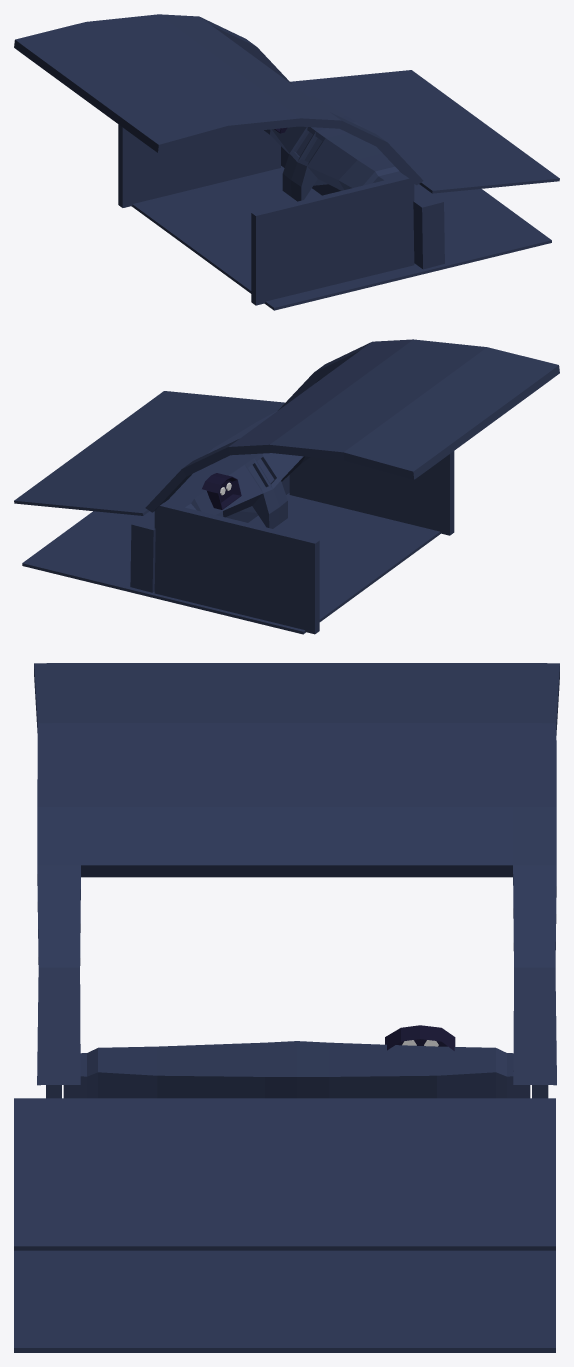
Rendered from CarDashboard.glb.
3 views of the same model, one above another, from view 1: azimuth 30°, elevation 25°; view 2: azimuth 150°, elevation 25°; view 3: azimuth 270°, elevation 25° (orthographic). The views are drawn at different scales.
Parts seen in each view (by area): view 1: Roof, Floor, DoorRight, Hood, DoorLeft, Dash, Hood.001; view 2: Roof, Floor, DoorLeft, Hood, DoorRight, Dash, Hood.001, InstrumentPanel; view 3: Roof, Hood, Floor, Dash, InstrumentPanel.
Part boxes in pixels (x1,y1,x2,y2): Roof: [14, 14, 423, 185]; Floor: [131, 166, 551, 310]; DoorRight: [251, 175, 414, 305]; Hood: [290, 70, 559, 193]; DoorLeft: [118, 124, 280, 207]; Dash: [264, 85, 404, 201]; Hood.001: [281, 146, 444, 269]; Roof: [145, 339, 559, 512]; Floor: [22, 493, 440, 634]; DoorLeft: [154, 502, 319, 634]; Hood: [14, 391, 284, 515]; DoorRight: [289, 451, 454, 535]; Dash: [165, 411, 309, 528]; Hood.001: [130, 475, 289, 592]; InstrumentPanel: [202, 473, 241, 509]; Roof: [34, 663, 559, 1085]; Hood: [14, 1098, 555, 1250]; Floor: [14, 1250, 555, 1352]; Dash: [63, 1041, 530, 1098]; InstrumentPanel: [385, 1025, 455, 1050].
Bounding box in the file's own units: 16.05 × 7.34 × 10.47.
